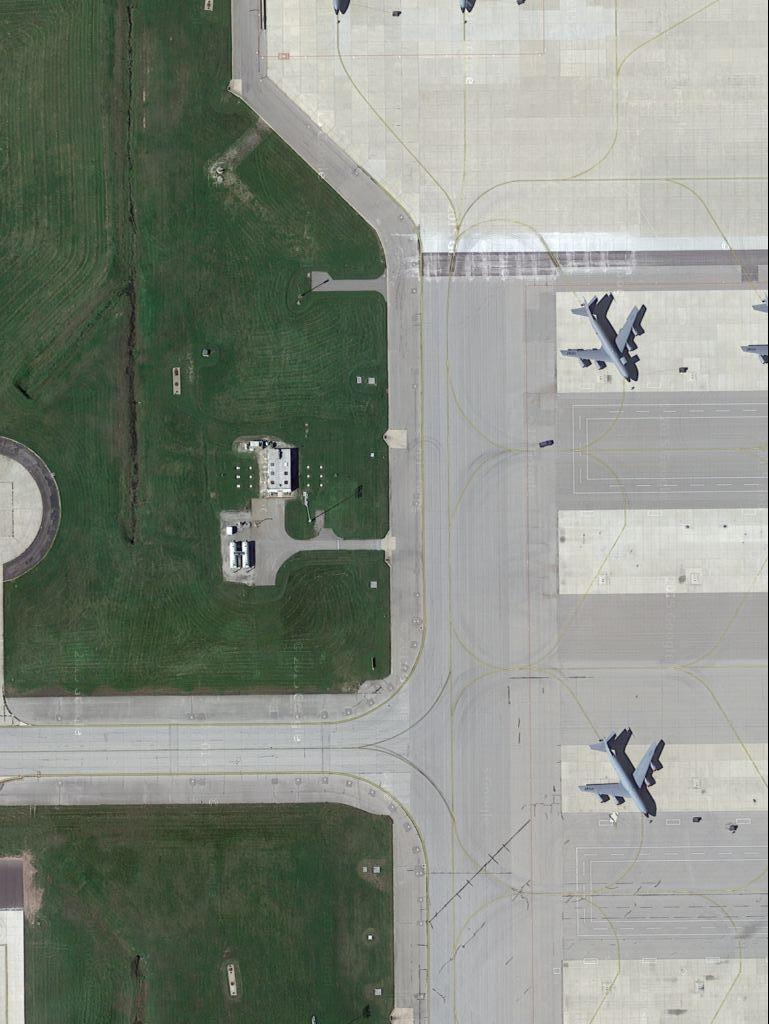KC-135: (576, 730, 669, 818), (563, 292, 646, 385)
